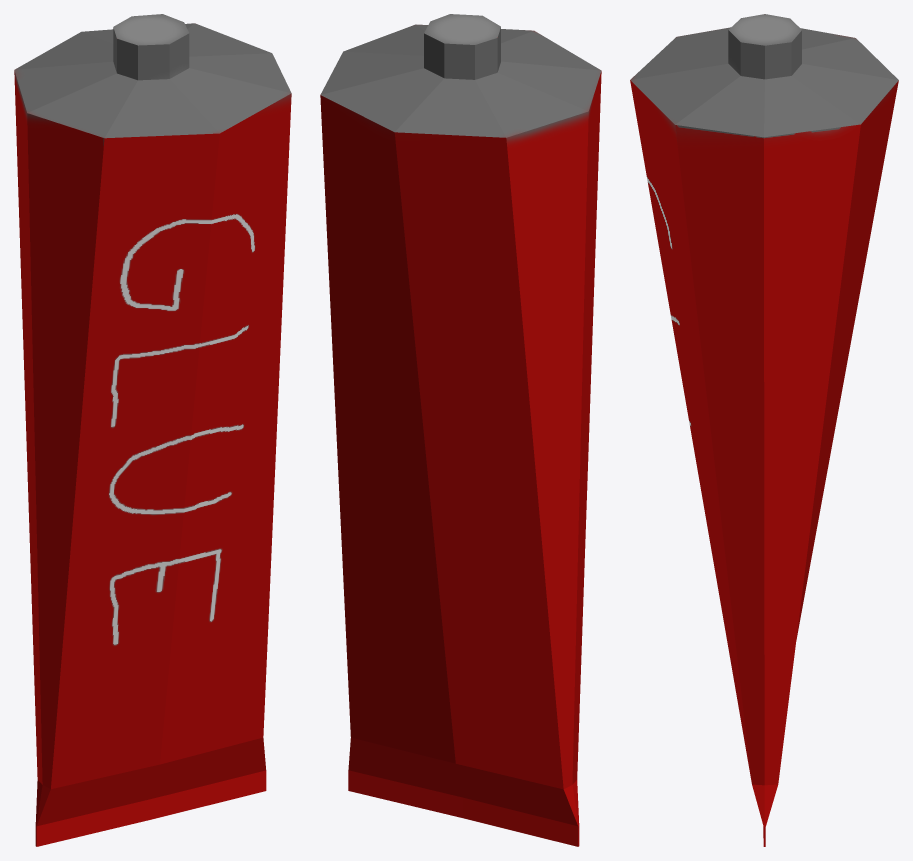
Rendered from glue.fbx.
The picture shows the model from 3 angles, left to right: view 1: azimuth 30°, elevation 25°; view 2: azimuth 150°, elevation 25°; view 3: azimuth 270°, elevation 25°; orthographic projection. The views are drawn at different scales.
Visible parts, largest first — view 1: Cube; view 2: Cube; view 3: Cube.
Boxes of the visible parts, bbox=[...] form: Cube: bbox=[14, 14, 291, 846]; Cube: bbox=[320, 14, 601, 846]; Cube: bbox=[630, 14, 898, 846].
Size of the model in its own units: 244 by 749 by 239.
